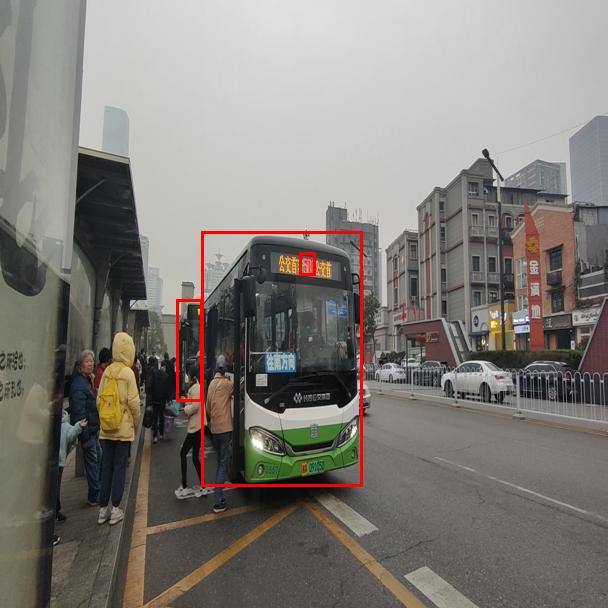bus: (201, 231, 362, 486), (176, 299, 202, 401)
screen: (299, 252, 315, 275)
